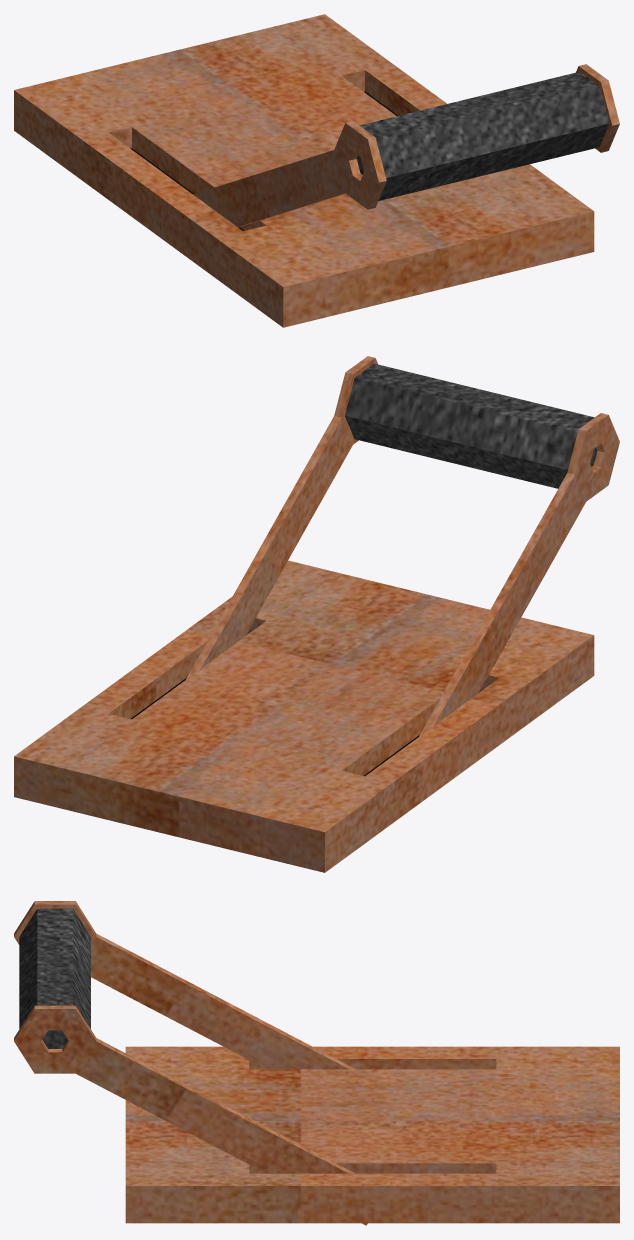
The model's file is lever.fbx.
3 renders of one model, top to bottom at view 1: azimuth 30°, elevation 25°; view 2: azimuth 150°, elevation 25°; view 3: azimuth 270°, elevation 25°, orthographic. The views are drawn at different scales.
Parts seen in each view (by area): view 1: Plane, Circle.001, Circle.002; view 2: Plane, Circle.002, Circle.001; view 3: Plane, Circle.002, Circle.001.
Boxes of the visible parts, x1,y1,x2,y2 form: Plane: [14, 14, 594, 327]; Circle.001: [357, 71, 609, 200]; Circle.002: [193, 64, 619, 227]; Plane: [14, 560, 594, 872]; Circle.002: [186, 356, 619, 736]; Circle.001: [345, 363, 597, 488]; Plane: [125, 1046, 619, 1223]; Circle.002: [14, 901, 367, 1225]; Circle.001: [19, 908, 90, 1048].
Bounding box in the file's own units: 800 × 580 × 1471.
